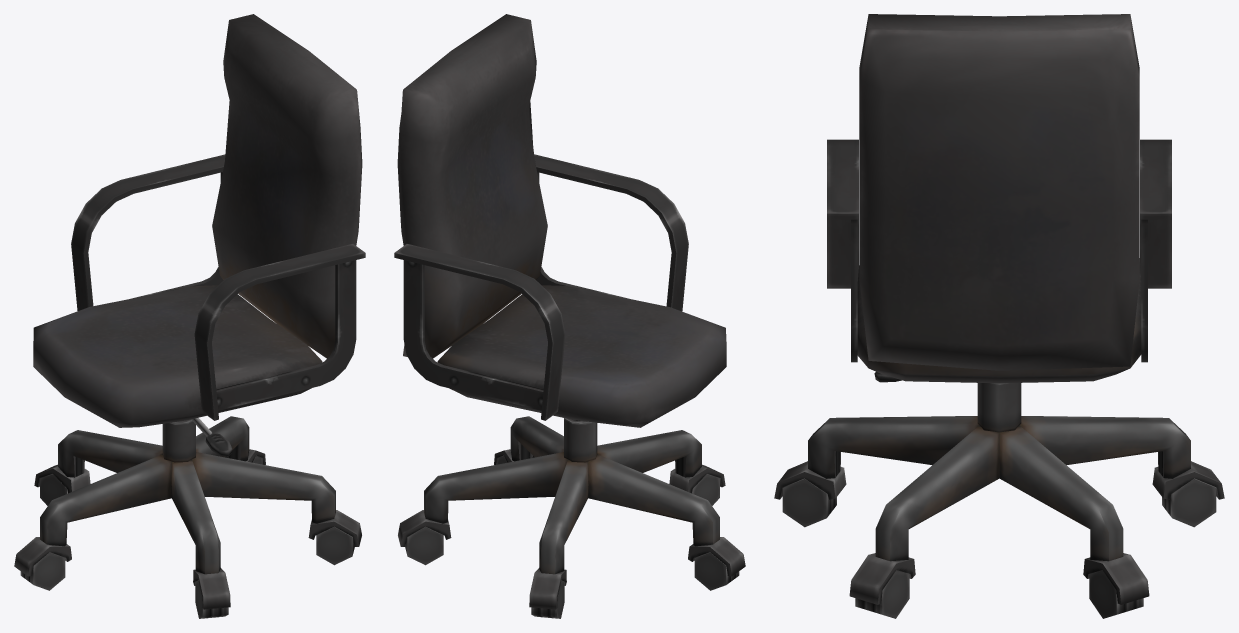
File: chair09.fbx
3 views of the same model, side by side, from view 1: azimuth 30°, elevation 25°; view 2: azimuth 150°, elevation 25°; view 3: azimuth 270°, elevation 25° (orthographic). The views are drawn at different scales.
Visible parts, largest first — view 1: chair09; view 2: chair09; view 3: chair09.
Part boxes in pixels (<box>): chair09: <box>14,14,365,618</box>; chair09: <box>394,14,745,618</box>; chair09: <box>774,14,1224,618</box>.
Size of the model in its own units: 66.3 by 98.24 by 67.36.
